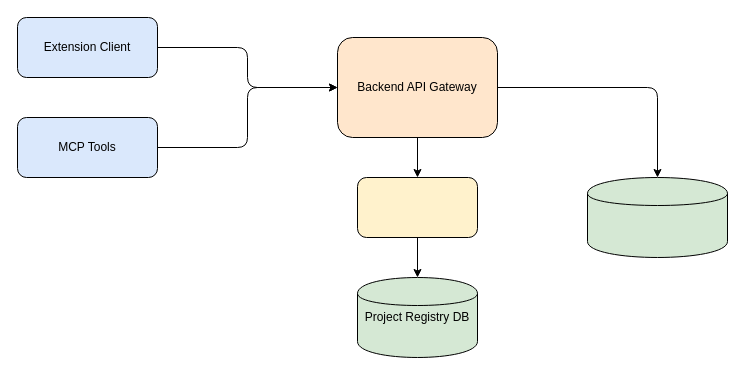
Some shapes in this 745 by 375 pixel diagram are drawn without their labels. Each missing label, with the box of its shape:
ensureProjectRegistered Guard: (356, 176, 478, 238)
Knowledge Base: (586, 176, 728, 258)
